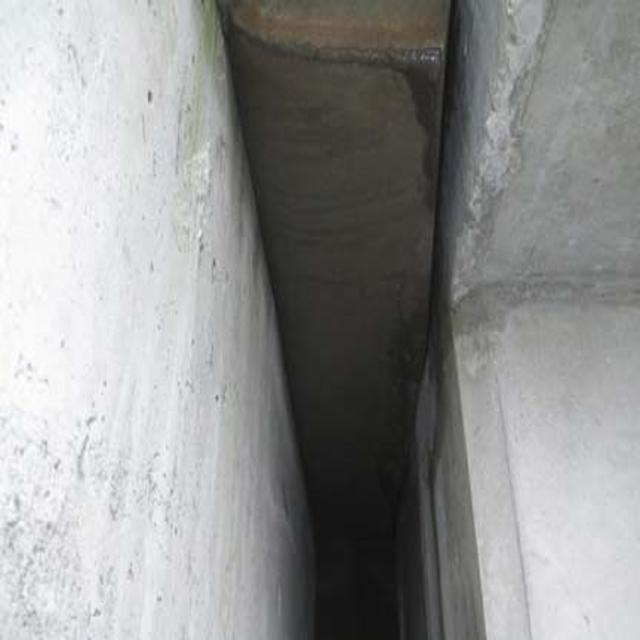leakage: (391, 34, 463, 246)
